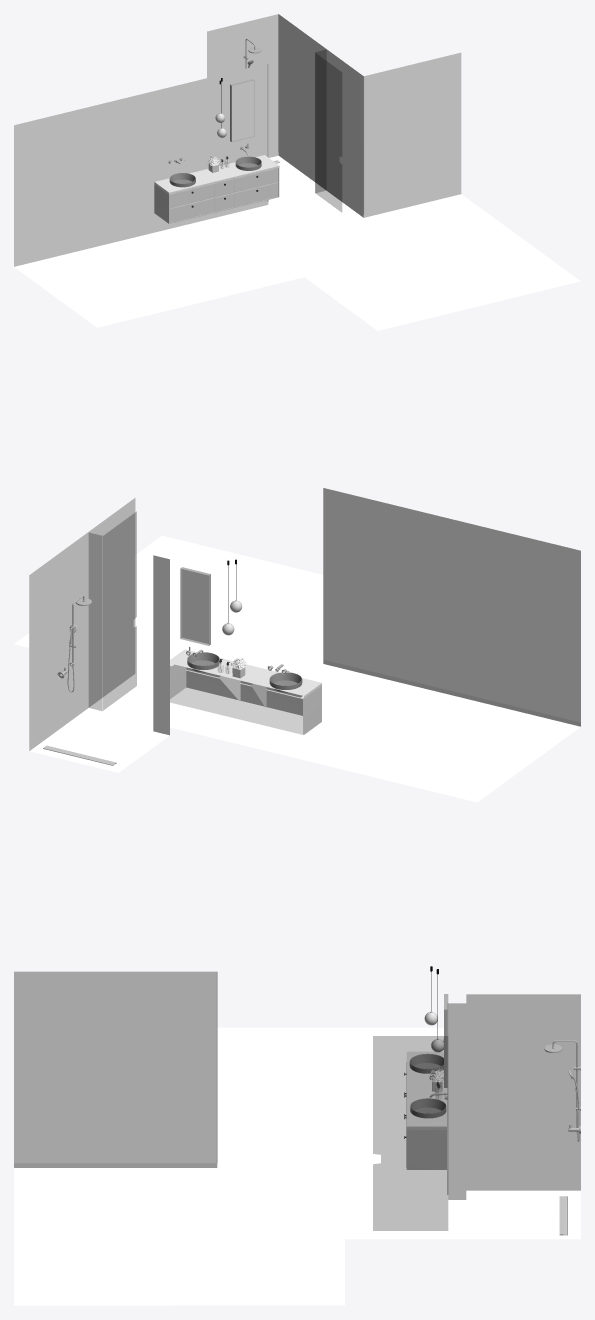
3 views of the same model, one above another, from view 1: azimuth 30°, elevation 25°; view 2: azimuth 150°, elevation 25°; view 3: azimuth 270°, elevation 25° (orthographic). The views are drawn at different scales.
Visible parts, largest first — view 1: wall_front1, floor_celling, table, doors, lamps, wall, sink; view 2: floor_celling, wall_back2, wall_front1, table, doors, lamps, wall, sink; view 3: floor_celling, wall_back2, wall_front1, doors, table, sink, lamps, shower11.
Part boxes in pixels (box(x1,y1,x2,y2)): wall_front1: box(14, 14, 461, 266); floor_celling: box(14, 155, 580, 330); table: box(154, 155, 279, 223); doors: box(315, 53, 341, 211); lamps: box(215, 78, 254, 141); wall: box(316, 50, 326, 192); sink: box(169, 156, 261, 187); floor_celling: box(14, 535, 580, 802); wall_back2: box(323, 488, 580, 726); wall_front1: box(29, 498, 169, 750); table: box(170, 649, 321, 734); doors: box(103, 512, 136, 709); lamps: box(180, 559, 242, 645); wall: box(89, 533, 102, 710); sink: box(187, 652, 302, 692); floor_celling: box(14, 1027, 580, 1305); wall_back2: box(14, 971, 217, 1167); wall_front1: box(448, 994, 580, 1199); doors: box(373, 1036, 447, 1230); table: box(404, 1051, 446, 1169); sink: box(409, 1053, 446, 1118); lamps: box(424, 966, 448, 1087); shower11: box(544, 1040, 580, 1141).
Size of the model in its own units: 7.28 by 2.4 by 6.28.
31 materials, 11 textured.
